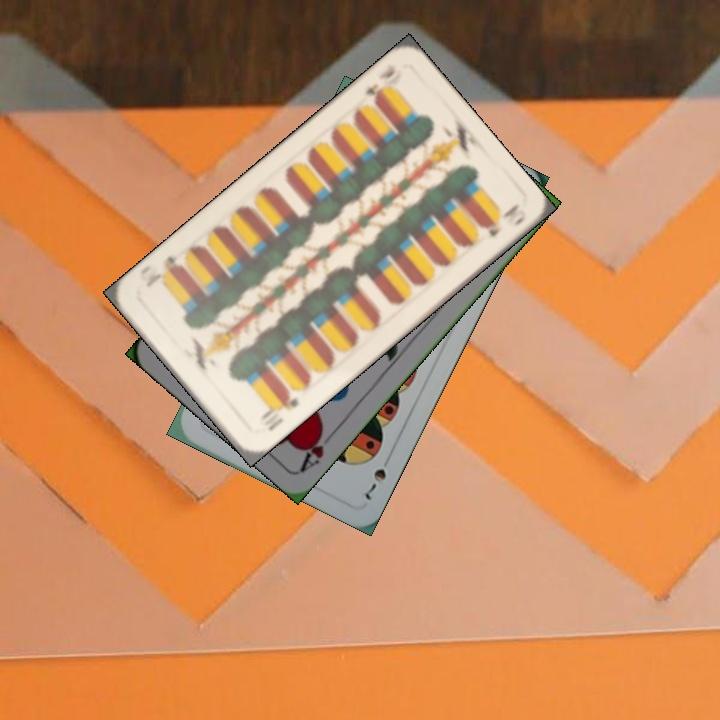E10: (256, 388, 302, 434), (361, 60, 405, 107)
HA: (296, 423, 340, 474)
S7: (360, 450, 395, 503)
